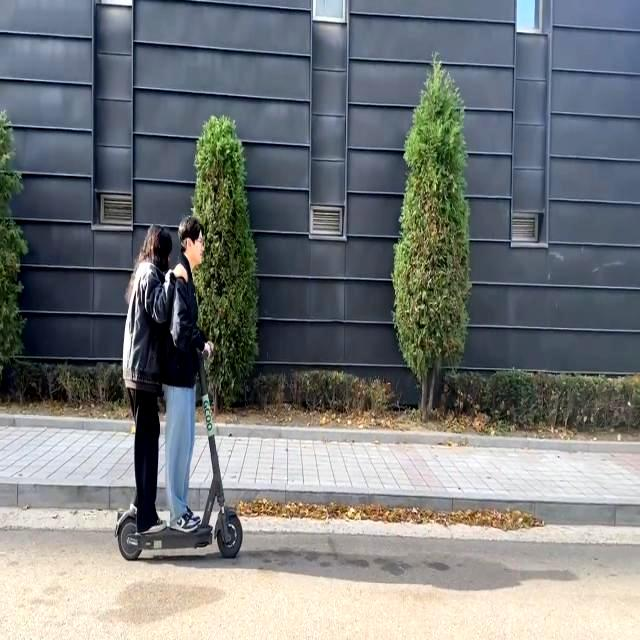bare_head: (174, 214, 209, 266), (133, 221, 170, 266)
human: (119, 224, 177, 536), (162, 215, 212, 532)
kickboard: (108, 500, 253, 569)
